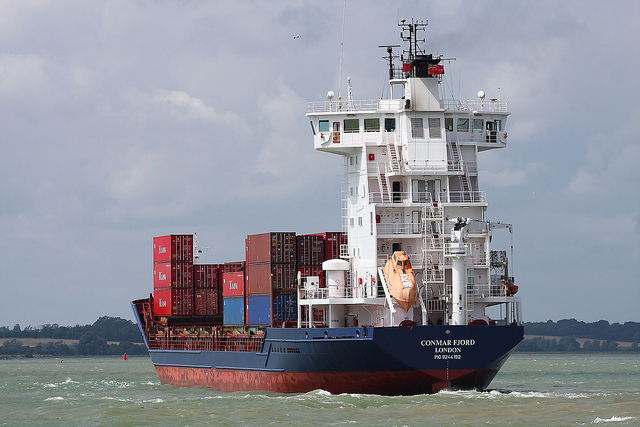container_ship: (133, 20, 524, 392)
